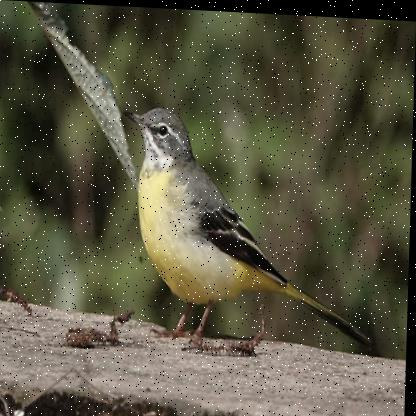Burung: (119, 105, 377, 352)
